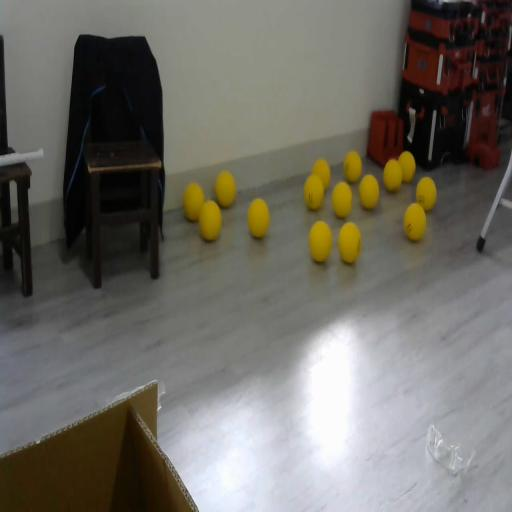FUEL: (337, 220, 362, 264), (197, 198, 222, 242), (308, 218, 332, 263), (246, 197, 270, 239), (403, 201, 427, 242), (182, 181, 205, 221), (214, 169, 236, 208), (358, 173, 380, 210), (332, 182, 352, 218), (416, 176, 436, 211), (383, 158, 403, 192), (312, 158, 331, 191), (344, 150, 362, 182)
